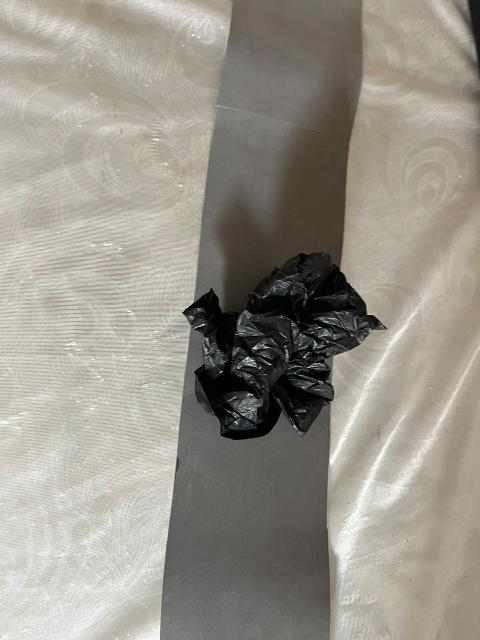LDPE: (160, 207, 419, 502)
